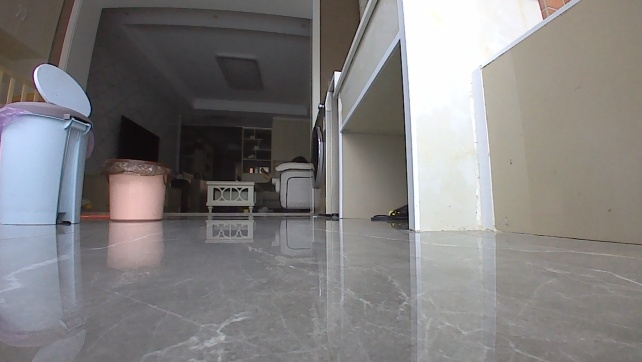sofa1: (259, 157, 313, 211)
tea_table1: (203, 178, 257, 213)
washing_machine: (308, 88, 340, 220)
wire: (367, 202, 409, 223)
